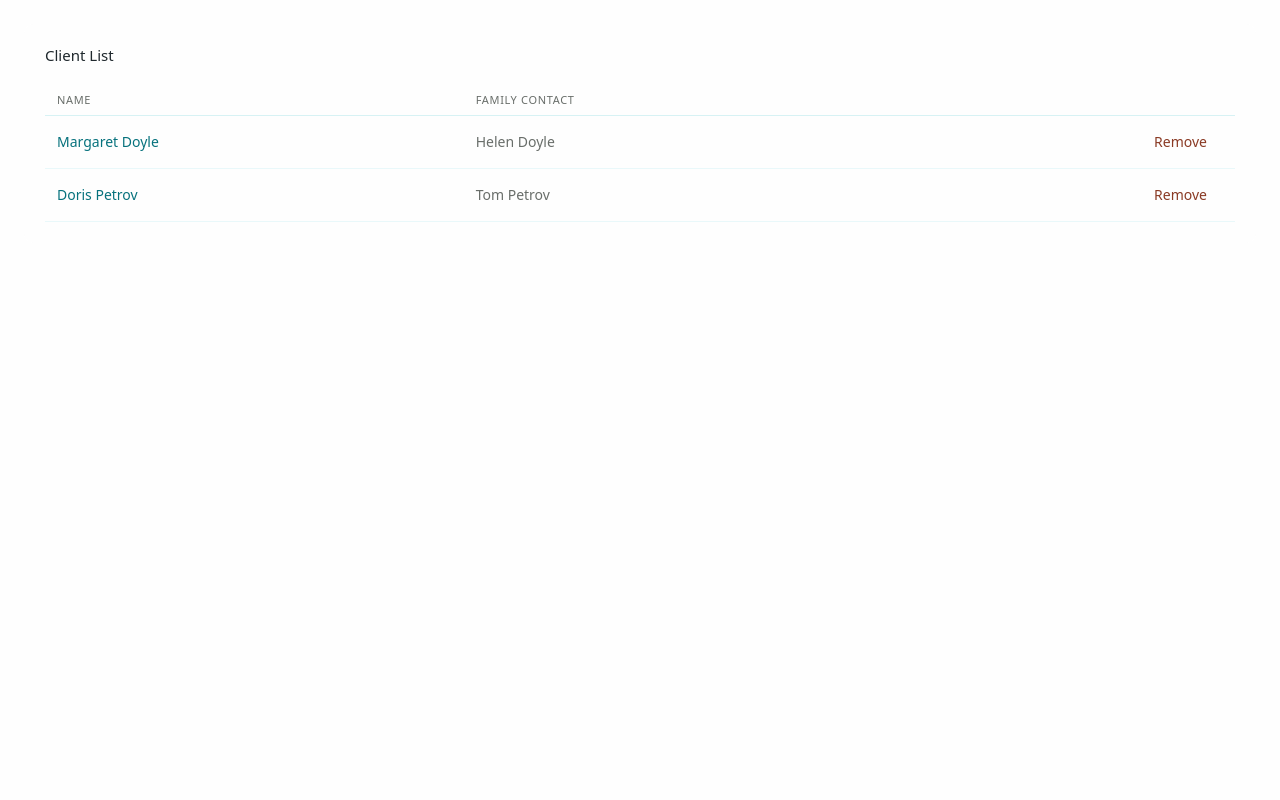
[ADM-04][PRD] Cancel and Escape leave the client unchanged and return focus
Click the button with aria-label "Remove Margaret Doyle": click(1181, 142) [1138, 120, 1223, 164]
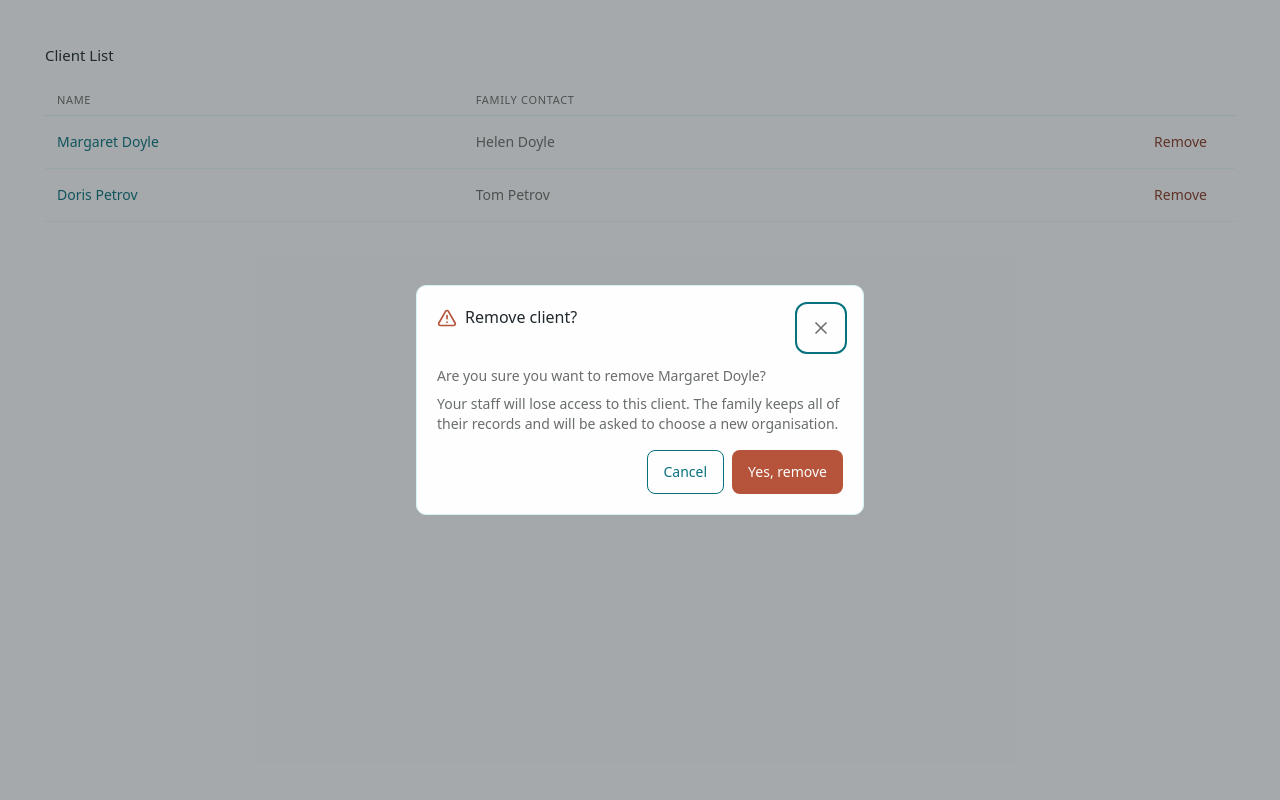
Click the button "Cancel": click(685, 472) [646, 450, 724, 494]
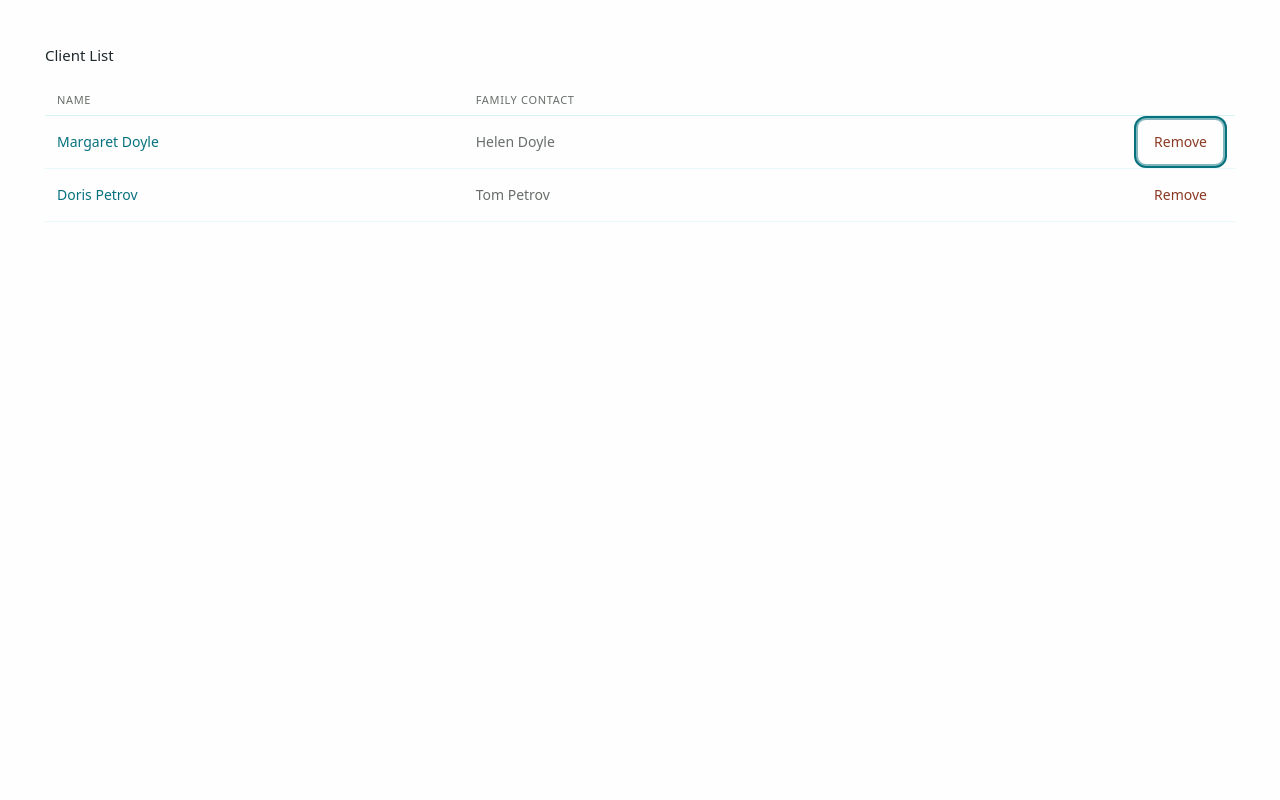
Now the dialog is gone
Click the button with aria-label "Remove Margaret Doyle": click(1181, 142) [1138, 120, 1223, 164]
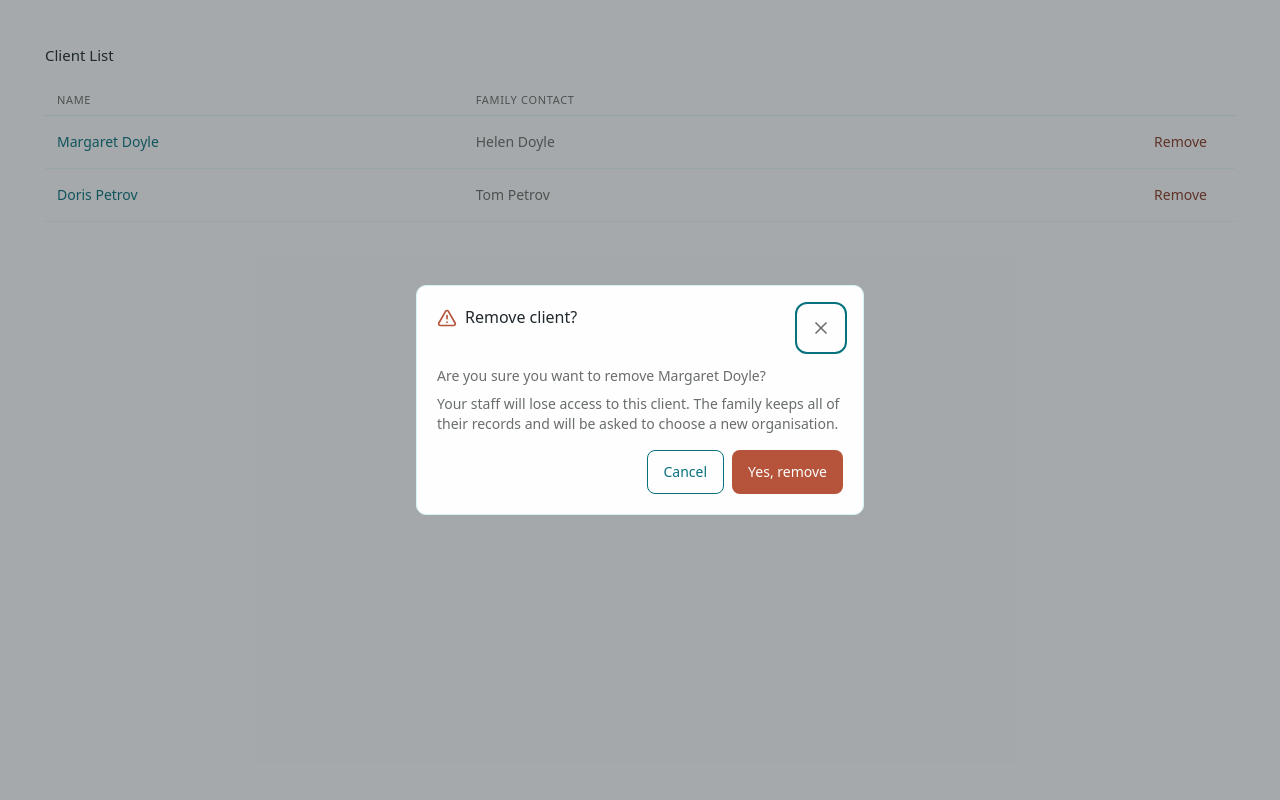
Press Escape
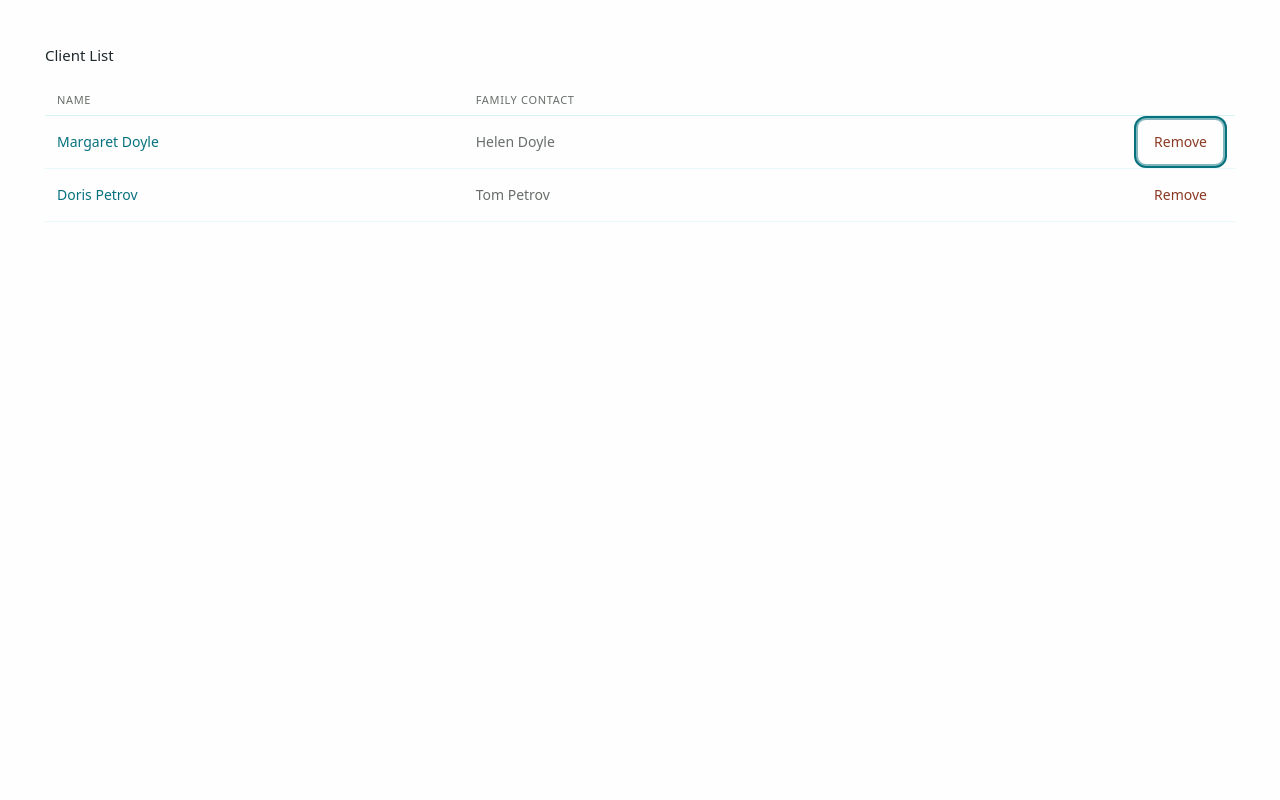
Expected: the row "Margaret Doyle Helen Doyle Remove" is shown, [45, 116, 1235, 168]
Now the dialog is gone
